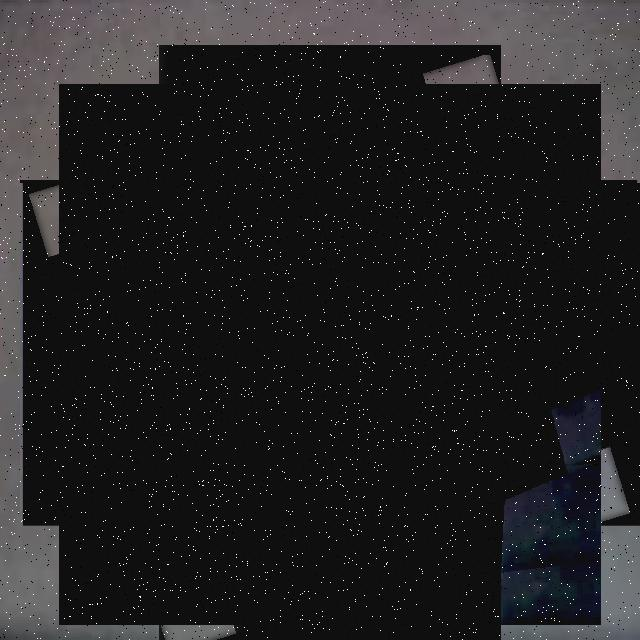dua puluh ribu rupiah: (59, 84, 601, 625)
